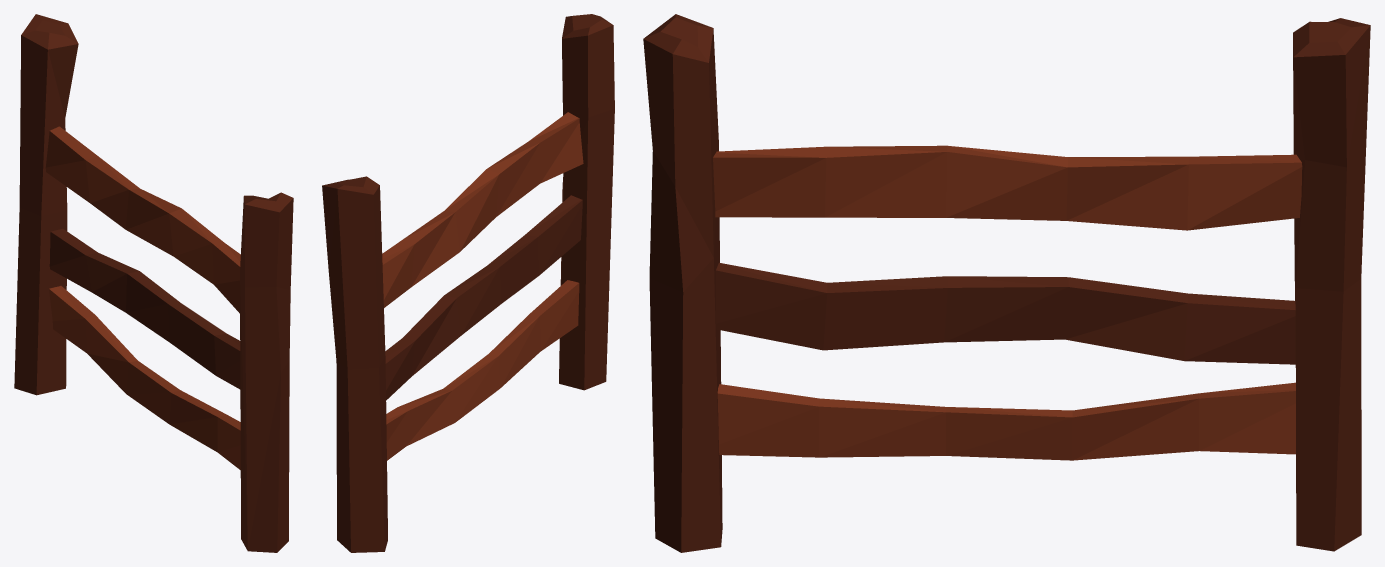
The model's file is Fence.FBX.
3 renders of one model, left to right at view 1: azimuth 30°, elevation 25°; view 2: azimuth 150°, elevation 25°; view 3: azimuth 270°, elevation 25°, orthographic. The views are drawn at different scales.
Visible parts, largest first — view 1: FenceStart_001, FenceEnd_001, Fence_001, Fence_002, Fence_003; view 2: FenceEnd_001, FenceStart_001, Fence_001, Fence_002, Fence_003; view 3: Fence_001, Fence_002, FenceEnd_001, FenceStart_001, Fence_003.
Part boxes in pixels (<box>): FenceStart_001: <box>240,192,293,552</box>; FenceEnd_001: <box>14,14,78,395</box>; Fence_001: <box>45,126,240,313</box>; Fence_002: <box>49,228,240,389</box>; Fence_003: <box>49,286,240,469</box>; FenceEnd_001: <box>322,176,387,552</box>; FenceStart_001: <box>559,14,614,390</box>; Fence_001: <box>382,112,583,307</box>; Fence_002: <box>385,195,582,400</box>; Fence_003: <box>386,280,579,460</box>; Fence_001: <box>713,145,1302,230</box>; Fence_002: <box>716,262,1295,364</box>; FenceEnd_001: <box>1293,18,1370,551</box>; FenceStart_001: <box>643,14,722,552</box>; Fence_003: <box>717,382,1295,460</box>.
Bounding box in the file's own units: 1.51 × 8.92 × 11.37.
